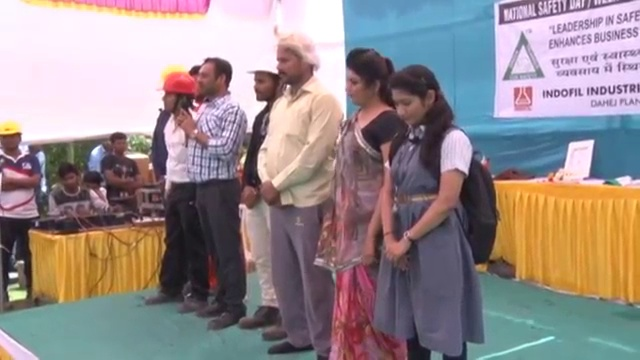helmet: (153, 72, 200, 99), (246, 53, 280, 78), (0, 117, 25, 140)
helmet_off: (384, 60, 447, 144), (343, 45, 393, 111), (267, 34, 318, 85), (191, 58, 232, 105), (56, 167, 80, 196), (108, 136, 128, 159)
helmet_on: (154, 76, 199, 118), (245, 54, 280, 106), (0, 118, 24, 162)
person: (373, 47, 501, 360), (256, 29, 346, 359), (329, 44, 404, 356), (178, 58, 246, 318), (143, 74, 201, 321), (239, 49, 285, 328), (0, 121, 43, 274), (97, 131, 141, 212), (48, 162, 112, 217)
